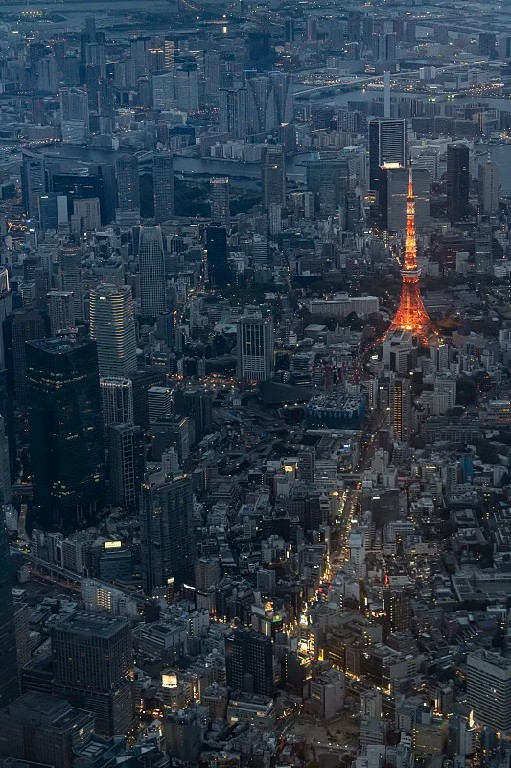Tokyo: (377, 164, 442, 352)
